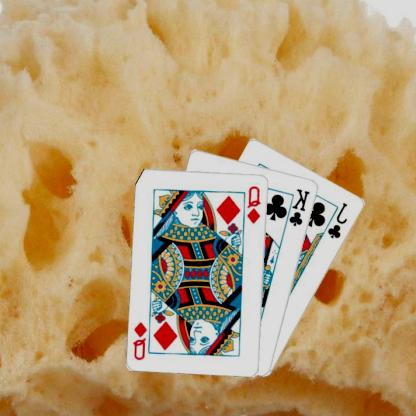JC: (327, 200, 351, 240)
KC: (284, 186, 314, 228)
QD: (246, 183, 264, 225), (133, 319, 150, 361)
